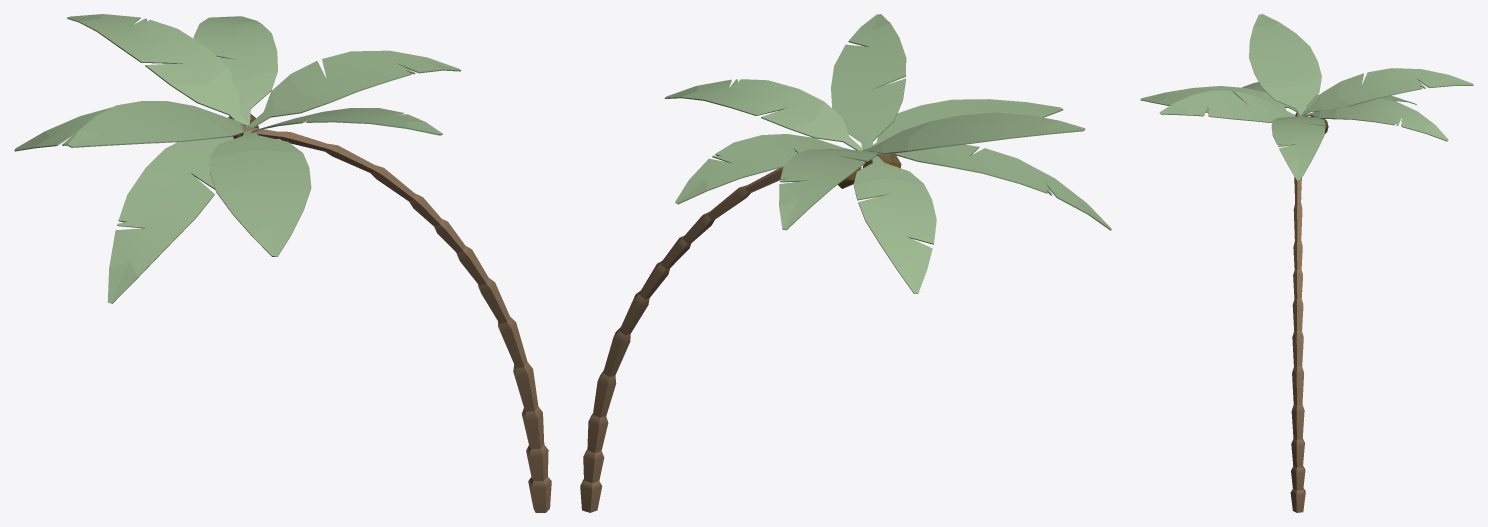
File: palmTree.fbx
3 renders of one model, left to right at view 1: azimuth 30°, elevation 25°; view 2: azimuth 150°, elevation 25°; view 3: azimuth 270°, elevation 25°, orthographic. The views are drawn at different scales.
Parts seen in each view (by area): view 1: pPlane8, pPlane4, pCylinder23, pPlane9, pPlane6, pPlane5, pPlane7, pPlane10, pPlane2; view 2: pPlane10, pPlane2, pCylinder23, pPlane6, pPlane5, pPlane7, pPlane9, pPlane8, pPlane4; view 3: pPlane5, pCylinder23, pPlane9, pPlane10, pPlane6, pPlane7, pPlane4.
Boxes of the visible parts, <box> form: pPlane8: <box>107,136,233,303</box>; pPlane4: <box>209,130,311,256</box>; pCylinder23: <box>240,126,551,512</box>; pPlane9: <box>67,14,248,126</box>; pPlane6: <box>248,50,460,128</box>; pPlane5: <box>67,101,249,147</box>; pPlane7: <box>193,16,277,124</box>; pPlane10: <box>250,108,442,135</box>; pPlane2: <box>14,107,158,151</box>; pPlane10: <box>831,14,906,149</box>; pPlane2: <box>853,155,936,293</box>; pCylinder23: <box>580,149,865,512</box>; pPlane6: <box>664,79,863,150</box>; pPlane5: <box>863,112,1085,154</box>; pPlane7: <box>675,134,851,204</box>; pPlane9: <box>779,148,877,230</box>; pPlane8: <box>877,144,1111,230</box>; pPlane4: <box>872,99,1063,146</box>; pPlane5: <box>1249,14,1321,116</box>; pCylinder23: <box>1290,112,1305,512</box>; pPlane9: <box>1299,68,1473,116</box>; pPlane10: <box>1159,90,1292,122</box>; pPlane6: <box>1271,116,1325,180</box>; pPlane7: <box>1302,98,1448,141</box>; pPlane4: <box>1140,86,1295,116</box>.
Bounding box in the file's own units: 13.5 × 12.85 × 11.58.
